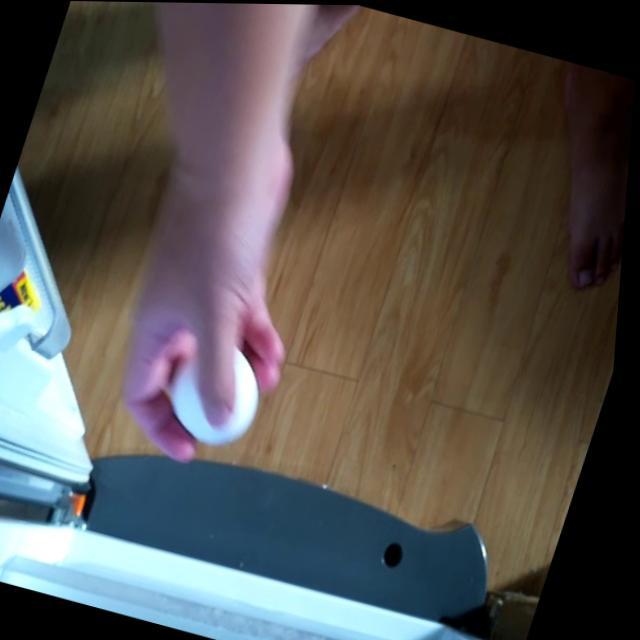egg: (156, 330, 277, 459)
